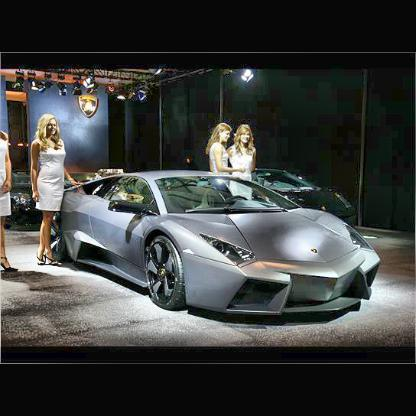Lamborghini Reventon Coupe 2008: (44, 173, 382, 319)
